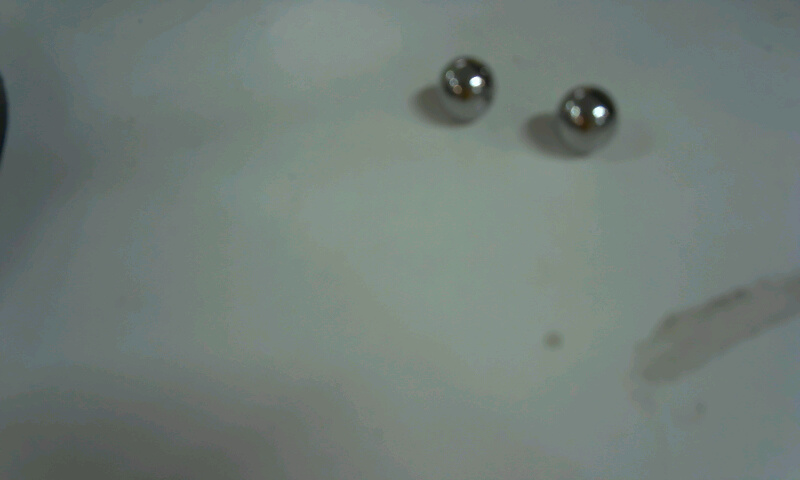steelball: (548, 76, 641, 165), (427, 51, 511, 128)
